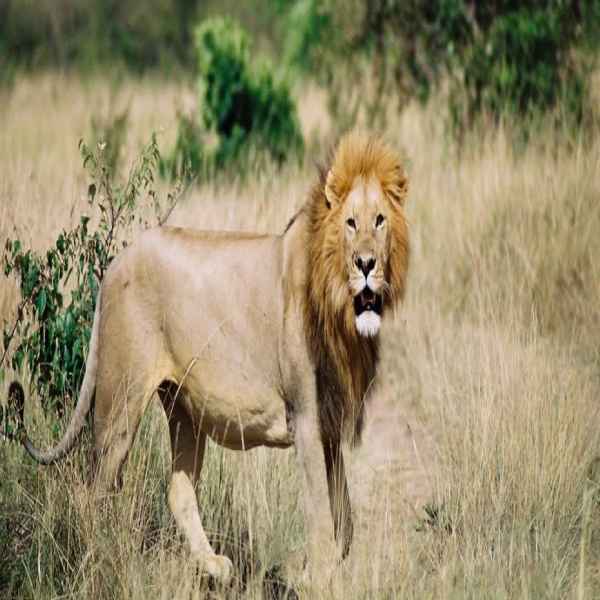Lion: (10, 128, 415, 584)
